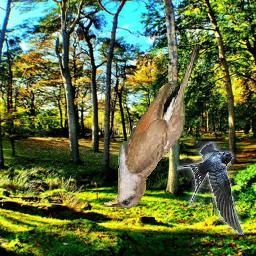Cuckoo: (101, 42, 199, 209)
Swallow: (178, 141, 245, 235)
